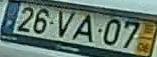0: (102, 17, 122, 45)
2: (15, 5, 35, 33)
6: (32, 6, 50, 35)
7: (122, 19, 141, 49)
A: (70, 13, 93, 43)
V: (58, 9, 77, 39)
